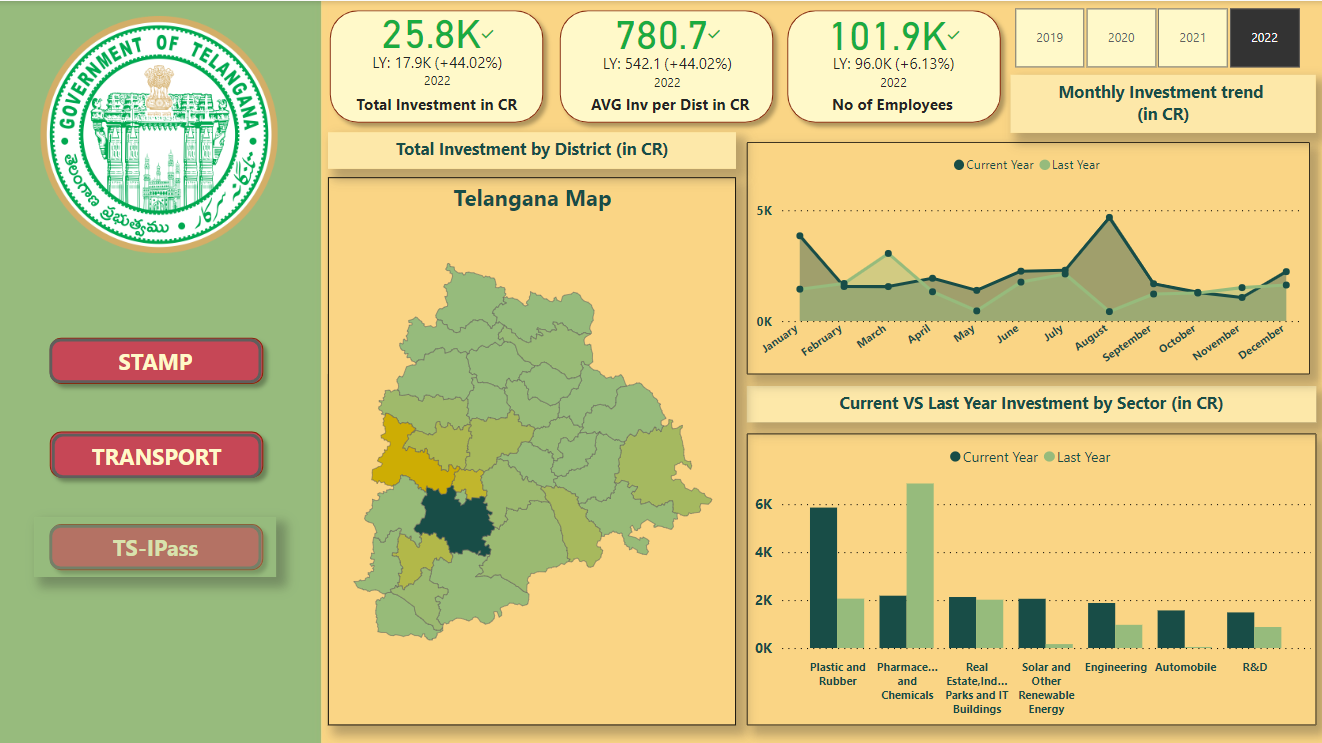

Layout of this report page (visuals, bound fields, positions):
{"tool":"powerbi","page":{"name":"TS-iPASS","canvas":[1280,720],"ordinal":2},"visuals":[{"type":"image","box":[36.2,9.6,238.8,238.8],"z":0},{"type":"shape","box":[311.6,0.2,224.3,126.6],"z":1000},{"type":"kpi","fields":{"TrendLine":["dim_date.fiscal_year"],"Indicator":["fact_TS_iPASS.Total_investment_CR"],"Goal":["fact_TS_iPASS.Total_investment_CR_LY"]},"box":[331.1,13.4,184.5,71.6],"z":2000},{"type":"shape","box":[533.1,0,224.3,126.6],"z":3000},{"type":"kpi","fields":{"Goal":["fact_TS_iPASS.AVG_investment_per_dist_CR_LY"],"TrendLine":["dim_date.fiscal_year"],"Indicator":["fact_TS_iPASS.AVG_investment_per_dist_CR"]},"box":[553.5,13.4,184.5,74],"z":4000},{"type":"slicer","fields":{"Values":["dim_date.fiscal_year"]},"box":[955.2,0,324.4,71.2],"z":5000},{"type":"shape","box":[752.6,0,224.3,126.6],"z":6000},{"type":"kpi","fields":{"TrendLine":["dim_date.fiscal_year"],"Indicator":["fact_TS_iPASS.Total_num_employs"],"Goal":["fact_TS_iPASS.Total_num_employs_LY"]},"box":[772.3,13.3,184.5,74.8],"z":7000},{"type":"textbox","box":[333.1,84.5,181,32.6],"z":8000},{"type":"textbox","box":[559.8,85,177.9,31.4],"z":9000},{"type":"textbox","box":[791.2,84.4,143.5,32.6],"z":10000},{"type":"textbox","box":[977.1,70.6,294.3,56.2],"z":11000},{"type":"shape","box":[40.9,316,224.3,62.7],"z":12000},{"type":"shape","box":[40.9,406.4,224.3,62.7],"z":13000},{"type":"actionButton","box":[51.9,417.3,202.6,43.4],"z":14000},{"type":"shape","box":[41,495.7,224.3,62.7],"z":15000},{"type":"actionButton","box":[49.4,325.6,205,43.4],"z":16000},{"type":"actionButton","box":[49.4,505.3,205,43.4],"z":17000},{"type":"textbox","box":[35,498.1,234,57.9],"z":18000},{"type":"clusteredColumnChart","fields":{"Category":["fact_TS_iPASS.sector"],"Y":["fact_TS_iPASS.Total_investment_CR","fact_TS_iPASS.Total_investment_CR_LY"]},"box":[722,417.3,549.4,281.2],"z":19000},{"type":"textbox","box":[722,371.5,549.4,35.3],"z":20000},{"type":"areaChart","fields":{"Category":["dim_date.month.Variation.Date Hierarchy.Month"],"Y":["fact_TS_iPASS.Total_investment_CR","fact_TS_iPASS.Total_investment_CR_LY"]},"box":[722,136,542.8,223.7],"z":21000},{"type":"shapeMap","fields":{"Category":["dim_districts.district"],"Value":["fact_TS_iPASS.Total_investment_CR"]},"box":[317.8,170,393.7,528.4],"z":22000},{"type":"textbox","box":[319.2,170,392.4,39.2],"z":23000},{"type":"textbox","box":[317.8,126.9,393.7,35.3],"z":23001}]}

Visuals, with their boxes in screenshot pixels (x1, y1, x2, y2), scaled from the page's 1280x720 canvas onto the 1322x743 screenshot:
image: 37,10,284,256
shape: 322,0,553,131
kpi - dim_date.fiscal_year x fact_TS_iPASS.Total_investment_CR: 342,14,533,88
shape: 551,0,782,131
kpi - fact_TS_iPASS.AVG_investment_per_dist_CR_LY x dim_date.fiscal_year: 572,14,762,90
slicer - dim_date.fiscal_year: 987,0,1321,73
shape: 777,0,1009,131
kpi - dim_date.fiscal_year x fact_TS_iPASS.Total_num_employs: 798,14,988,91
textbox: 344,87,531,121
textbox: 578,88,762,120
textbox: 817,87,965,121
textbox: 1009,73,1313,131
shape: 42,326,274,391
shape: 42,419,274,484
actionButton: 54,431,263,475
shape: 42,512,274,576
actionButton: 51,336,263,381
actionButton: 51,521,263,566
textbox: 36,514,278,574
clusteredColumnChart - fact_TS_iPASS.sector x fact_TS_iPASS.Total_investment_CR: 746,431,1313,721
textbox: 746,383,1313,420
areaChart - dim_date.month.Variation.Date Hierarchy.Month x fact_TS_iPASS.Total_investment_CR: 746,140,1306,371
shapeMap - dim_districts.district x fact_TS_iPASS.Total_investment_CR: 328,175,735,721
textbox: 330,175,735,216
textbox: 328,131,735,167
